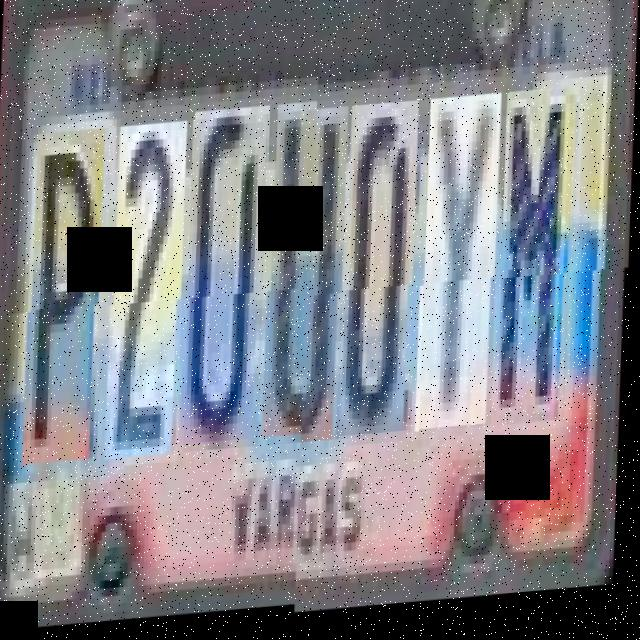0: (187, 119, 270, 456), (344, 108, 419, 445)
2: (112, 133, 188, 469)
M: (501, 98, 576, 434)
P: (29, 139, 105, 475)
U: (269, 113, 349, 450)
Y: (422, 103, 502, 440)
